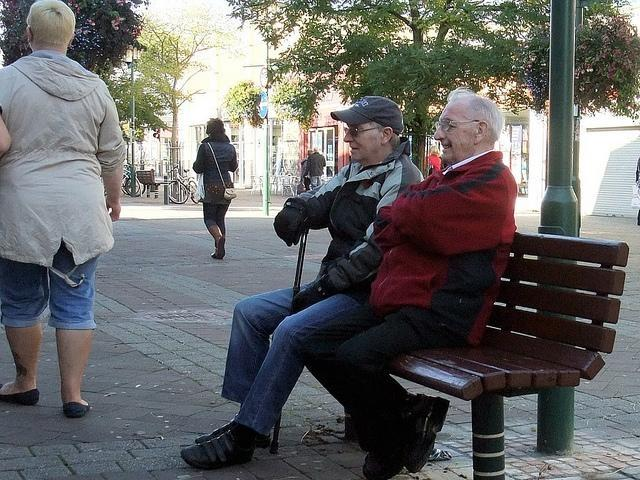bicycle: (168, 168, 200, 202), (124, 165, 140, 196), (132, 182, 146, 196)
